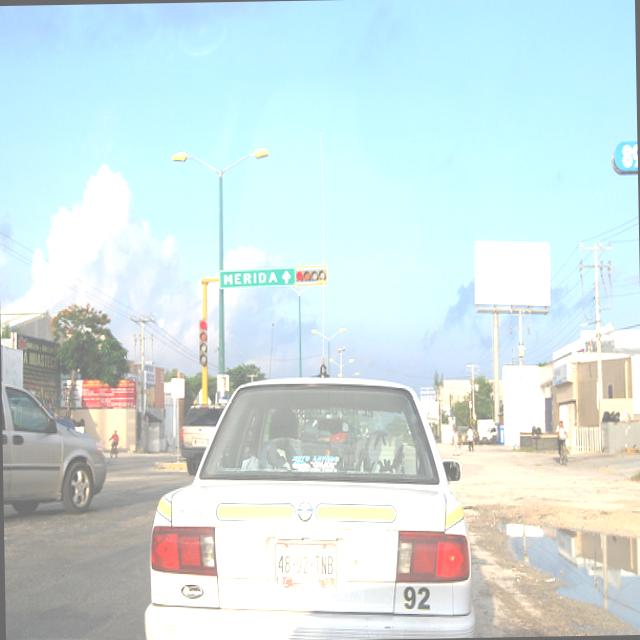Vehicle: (137, 376, 476, 640), (1, 372, 106, 512), (179, 402, 226, 474), (479, 424, 496, 444)
